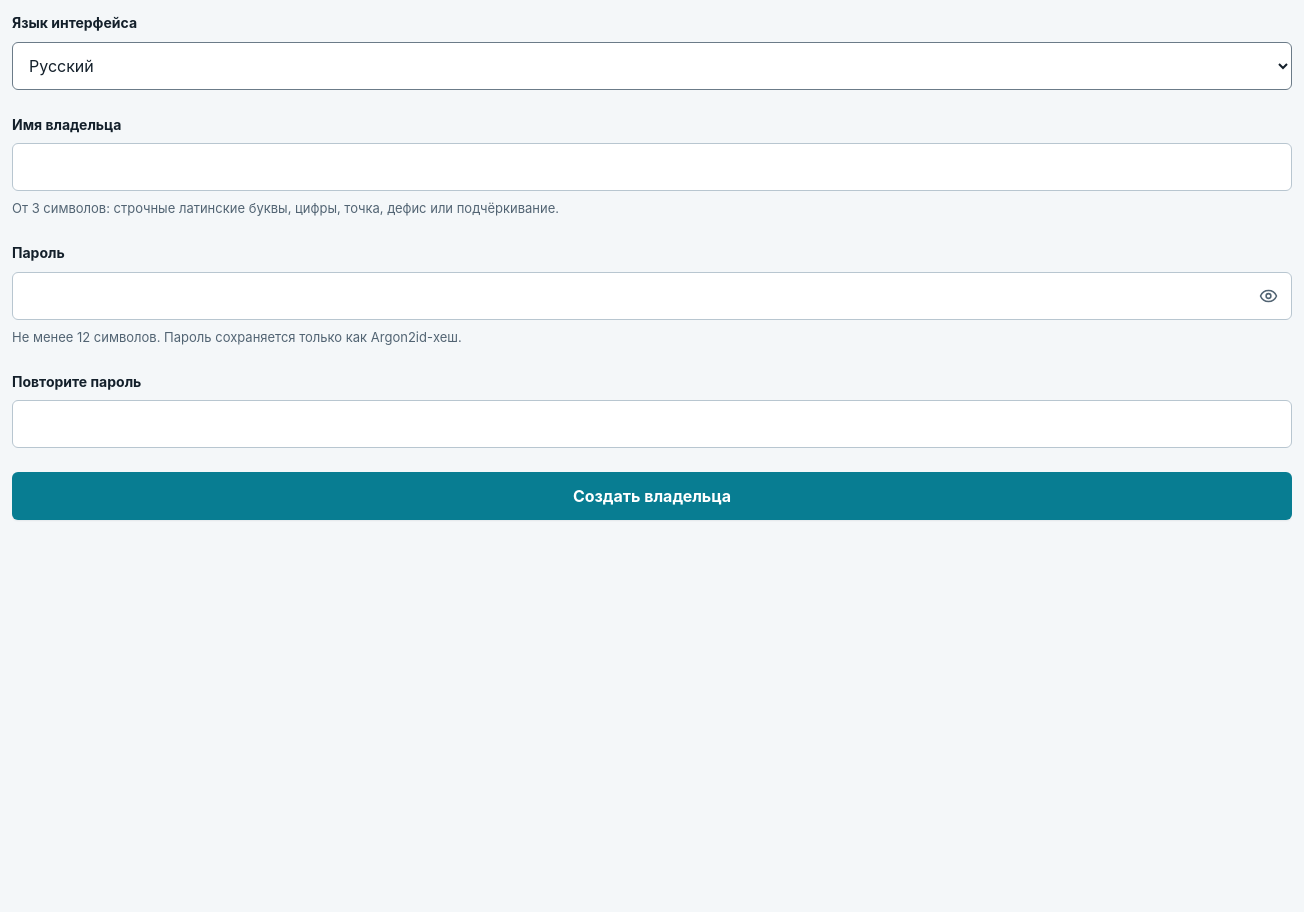
Test: OwnerSetupForm › shows visible labels and focuses the first invalid field
Expected: the field labelled "Имя владельца" is shown, [12,143,1292,191]
Expected: the password field labelled "Пароль" is shown, [12,272,1292,320]
Click the button "Создать владельца" at [652, 496], box [12,472,1292,520]
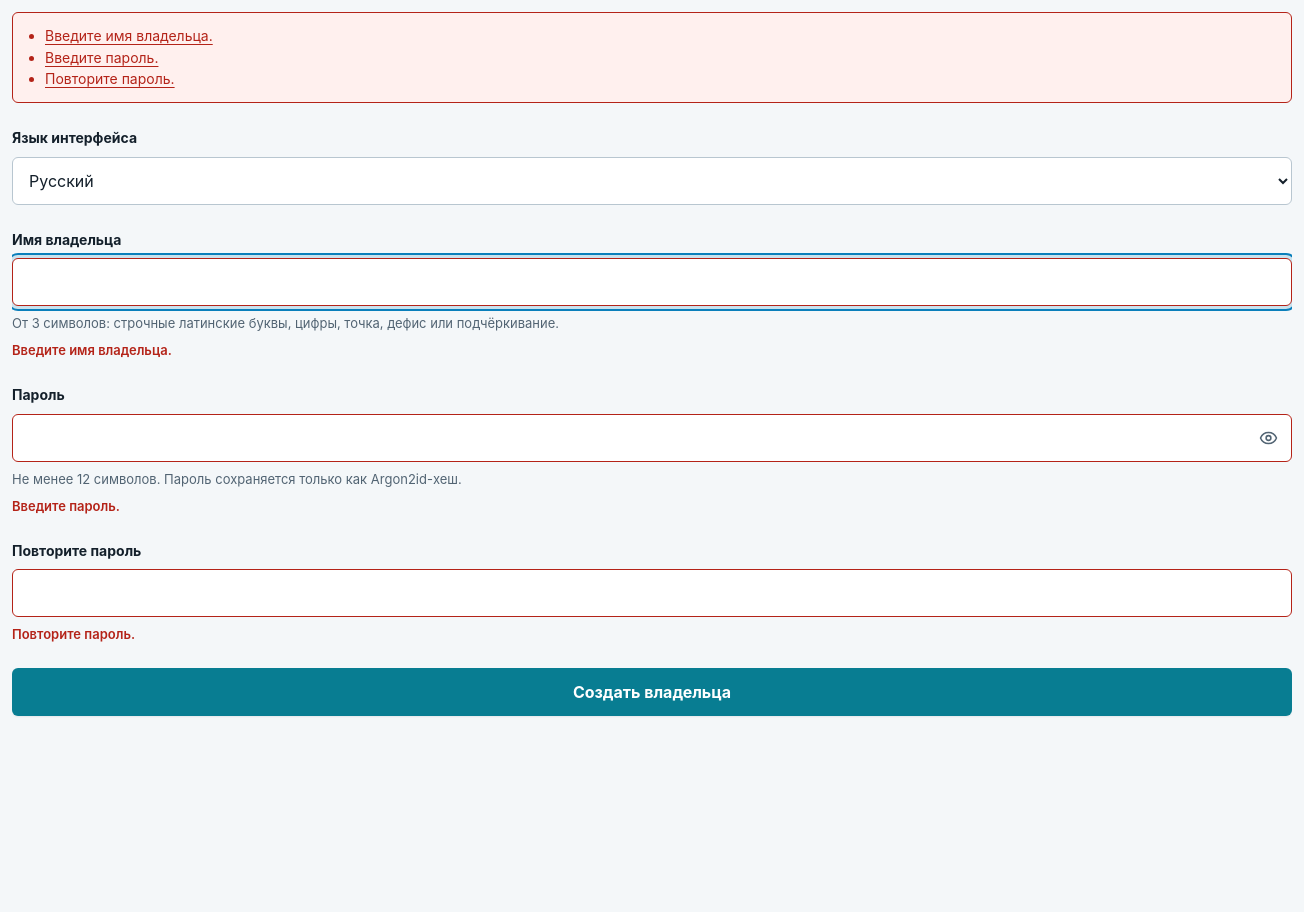
Now the number of links "Введите имя владельца." is 2, box [45,27,213,44]; [12,342,172,358]
